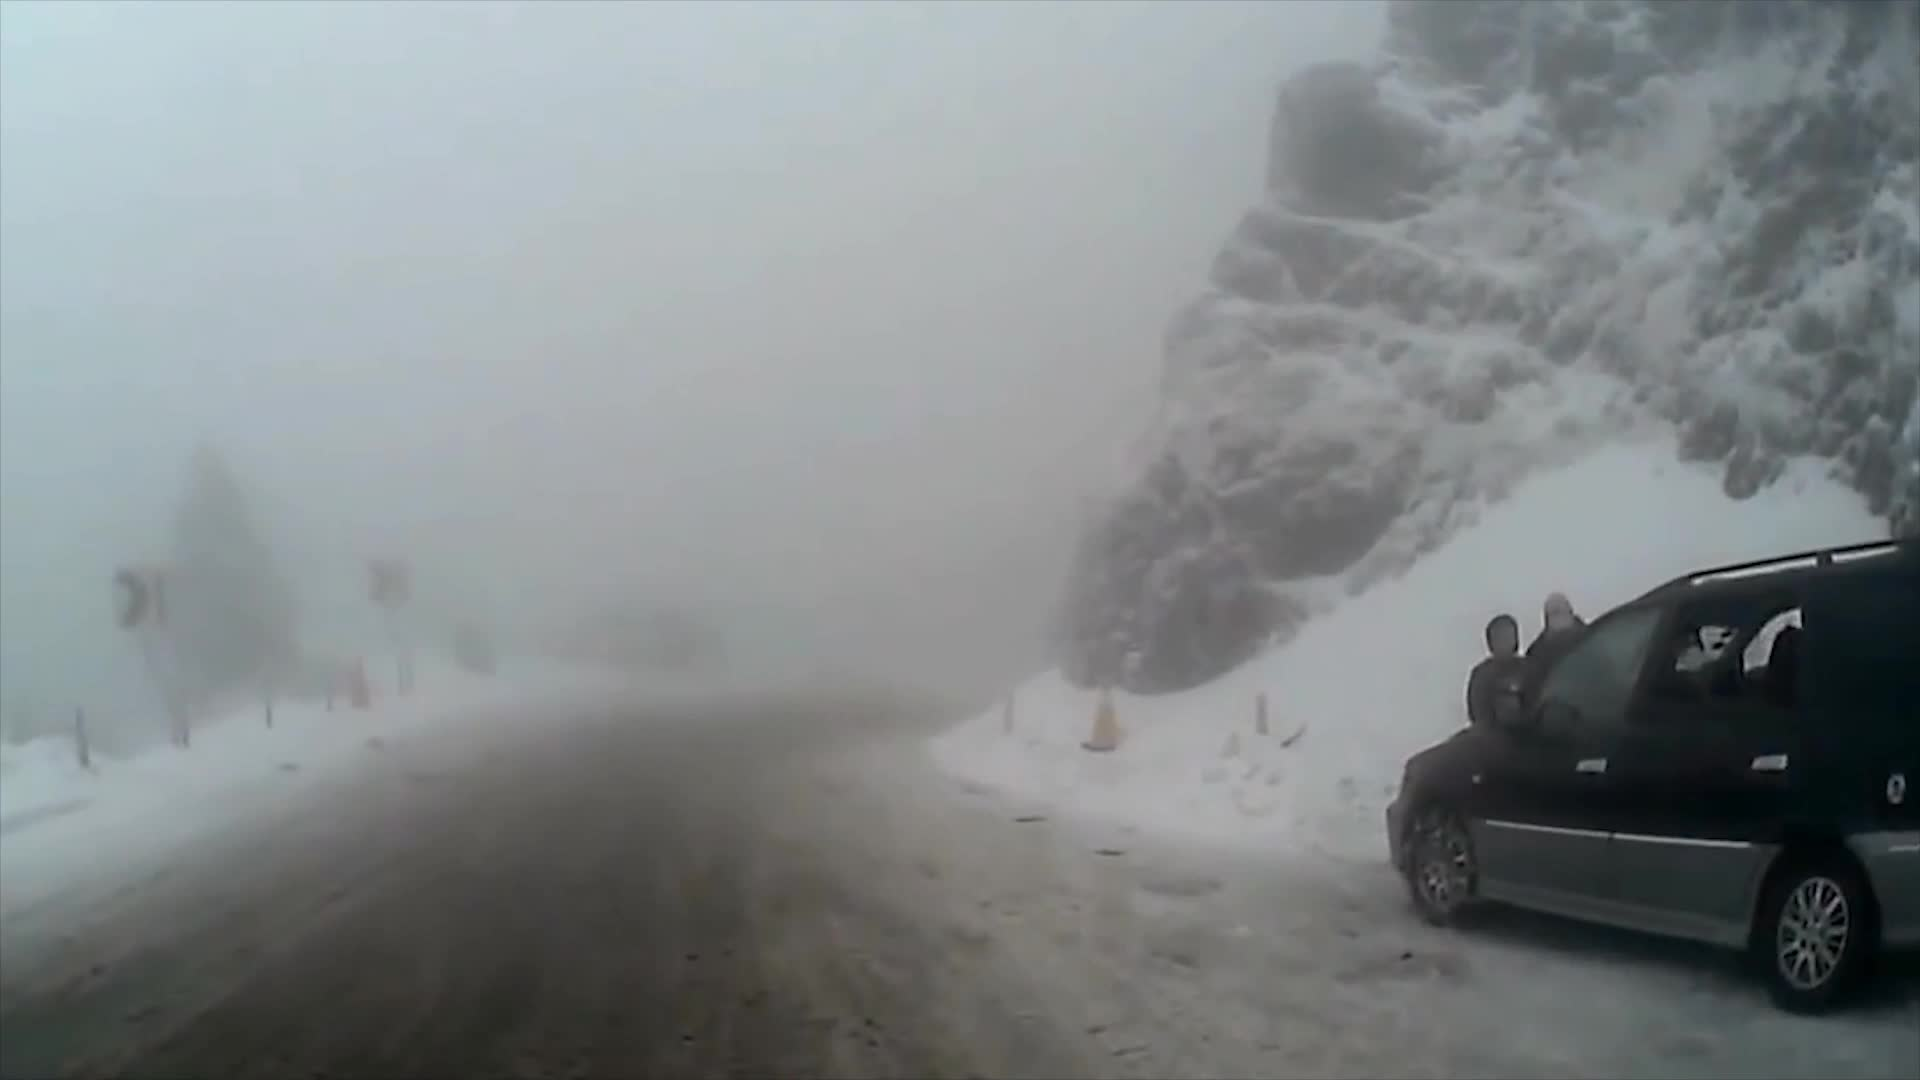pedestrian: (1465, 607, 1543, 881), (1527, 589, 1609, 843)
vehicle: (1383, 532, 1920, 1014)
